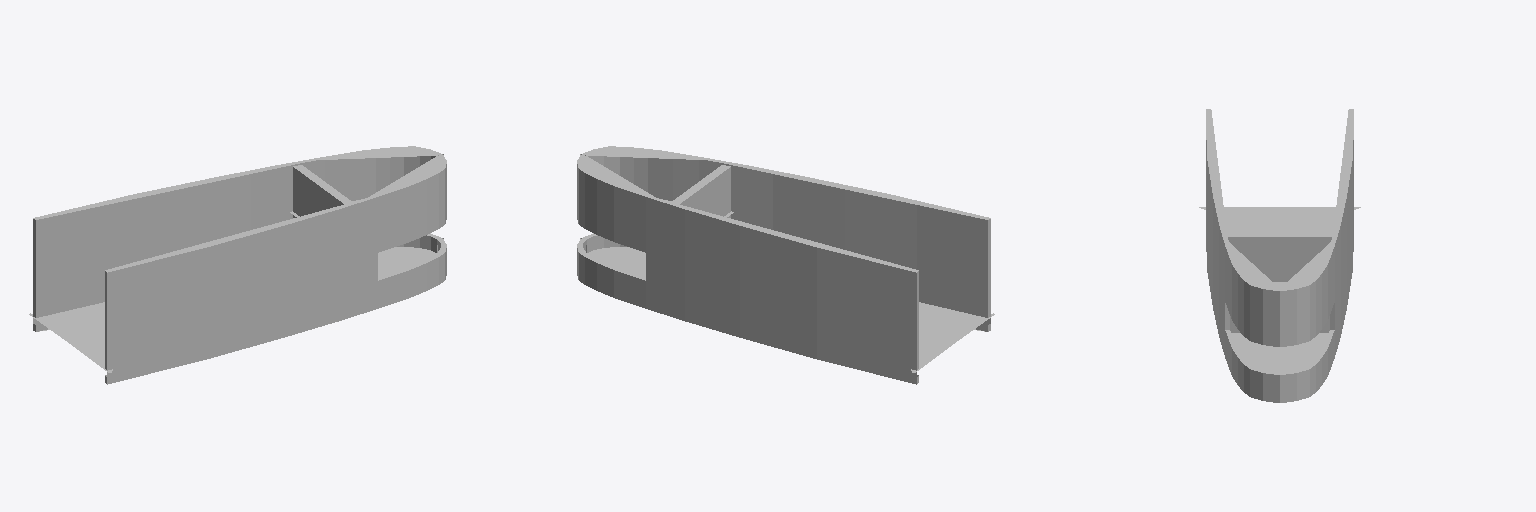
Rendered from Cockpit2.obj.
The picture shows the model from 3 angles: view 1: azimuth 30°, elevation 25°; view 2: azimuth 150°, elevation 25°; view 3: azimuth 270°, elevation 25°; orthographic projection.
Visible parts, largest first — view 1: Cube, Cube.001_Cube.002; view 2: Cube.001_Cube.002, Cube; view 3: Cube, Cube.001_Cube.002.
Part boxes in pixels (bbox=[...]): Cube: bbox=[29, 155, 446, 384]; Cube.001_Cube.002: bbox=[33, 146, 443, 372]; Cube.001_Cube.002: bbox=[577, 155, 994, 384]; Cube: bbox=[580, 146, 990, 372]; Cube: bbox=[1206, 109, 1360, 402]; Cube.001_Cube.002: bbox=[1199, 109, 1353, 402].
Size of the model in its own units: 4.43 by 1.27 by 1.67.